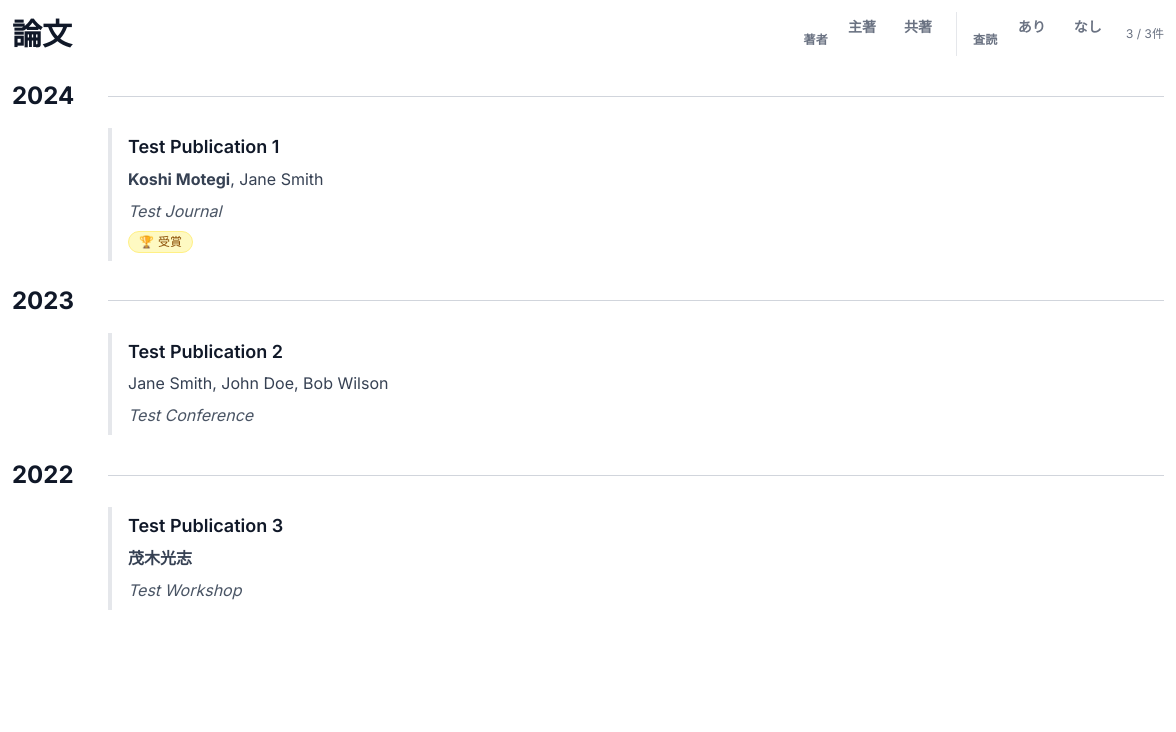
Test: PublicationList › filters publications correctly when filter is selected
Click on first author filter
Click the button "主著": (862, 34) [840, 12, 884, 56]
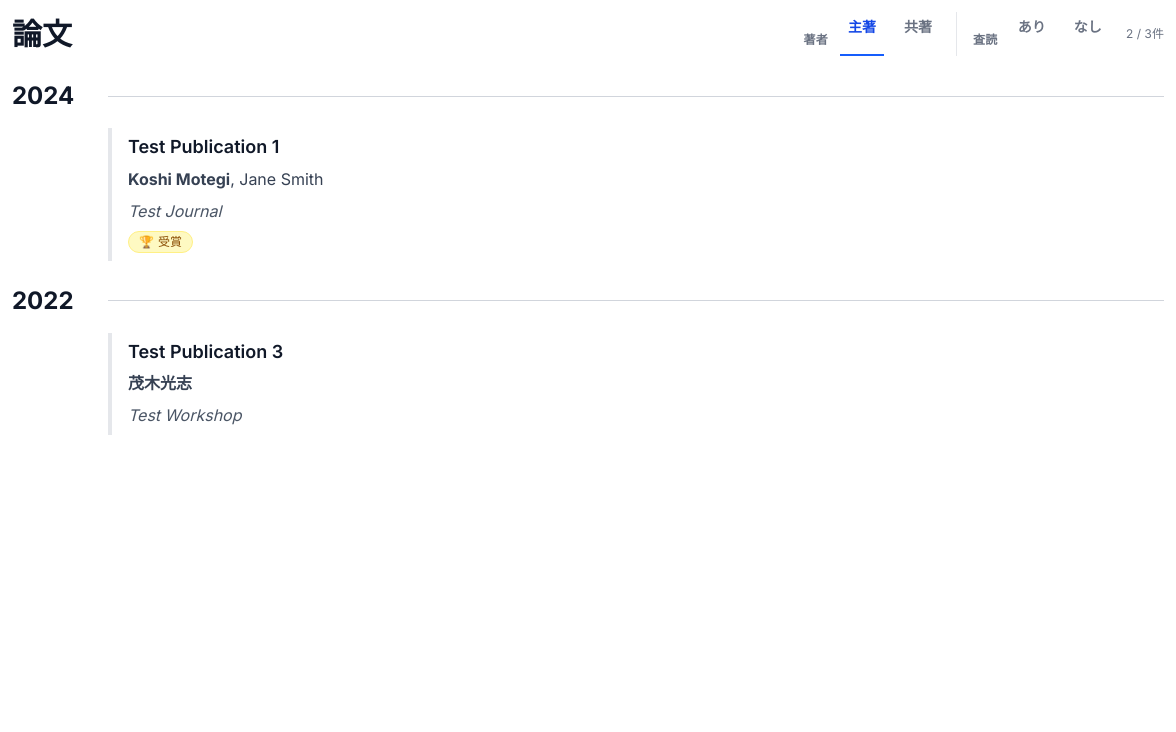
Check: the heading "Test Publication 1" is shown, box [128, 136, 279, 157]
Check: the button "Test Publication 2" is gone
Check: the text "2 / 3件" is shown, box [1126, 26, 1164, 42]
